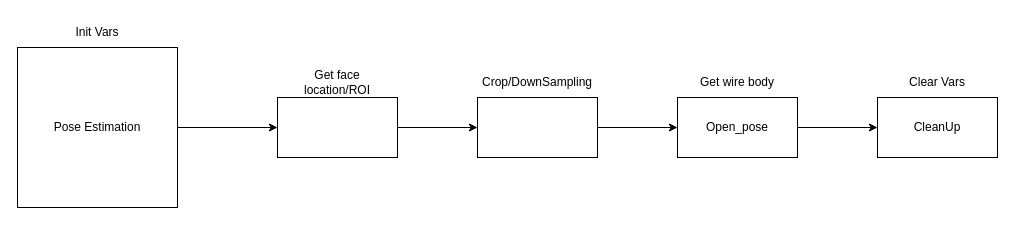
Some shapes in this 1015 by 225 pixel diagram are drawn without their labels. Here are the shapes that lost their labels. From the top down, the box of each, then its label:
(276, 96, 398, 158): detect_face
(476, 96, 598, 158): Not_yet_implemented
